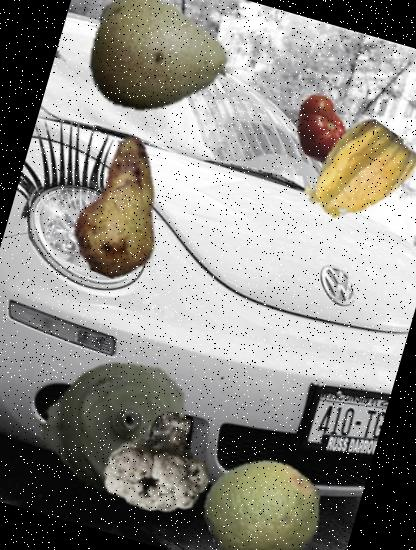Cauliflower: (93, 394, 227, 528)
Kohlrabi: (21, 332, 203, 514)
Limes: (192, 442, 337, 550)
Pear: (38, 121, 212, 295), (71, 0, 247, 144)
Physalis: (293, 108, 416, 243)
Tomato: (278, 85, 364, 172)
